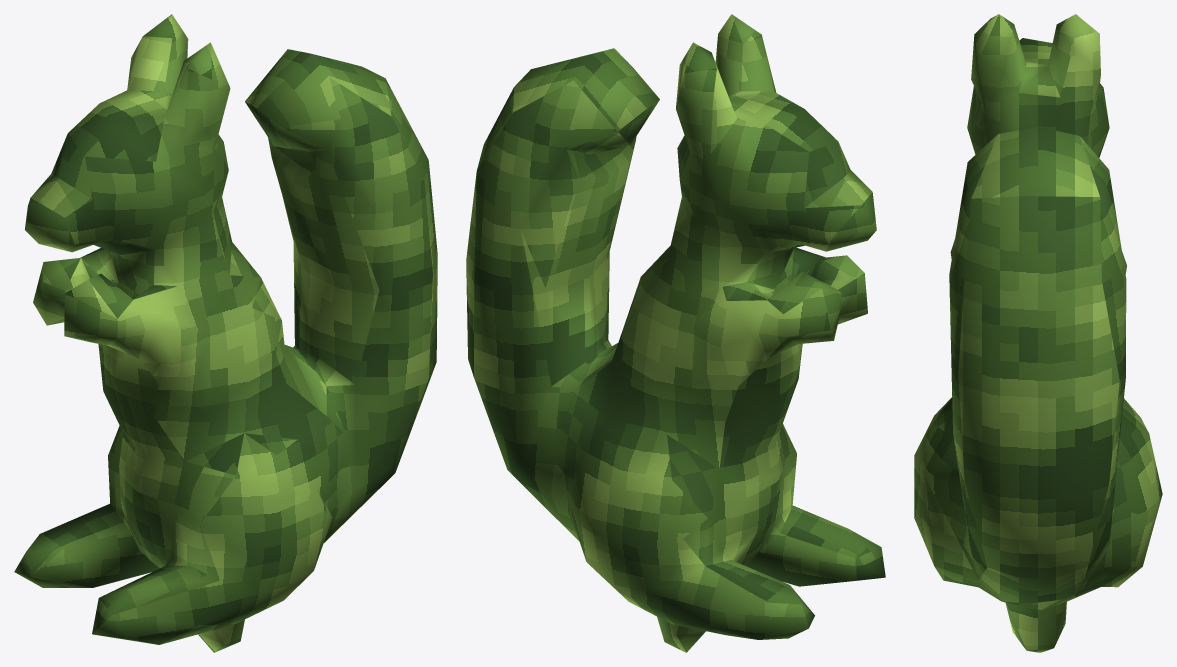
File: rct2.scenery_small.tsq.glb
The picture shows the model from 3 angles, left to right: view 1: azimuth 30°, elevation 25°; view 2: azimuth 150°, elevation 25°; view 3: azimuth 270°, elevation 25°; orthographic projection.
Visible parts, largest first — view 1: rct2.scenery_small.tsq; view 2: rct2.scenery_small.tsq; view 3: rct2.scenery_small.tsq.
Boxes of the visible parts, box(x1,y1,x2,y2) form: rct2.scenery_small.tsq: box(14, 14, 437, 652); rct2.scenery_small.tsq: box(466, 14, 885, 652); rct2.scenery_small.tsq: box(914, 14, 1162, 652).
Size of the model in its own units: 0.7656 by 1.16 by 0.4165.
1 material, 1 textured.
